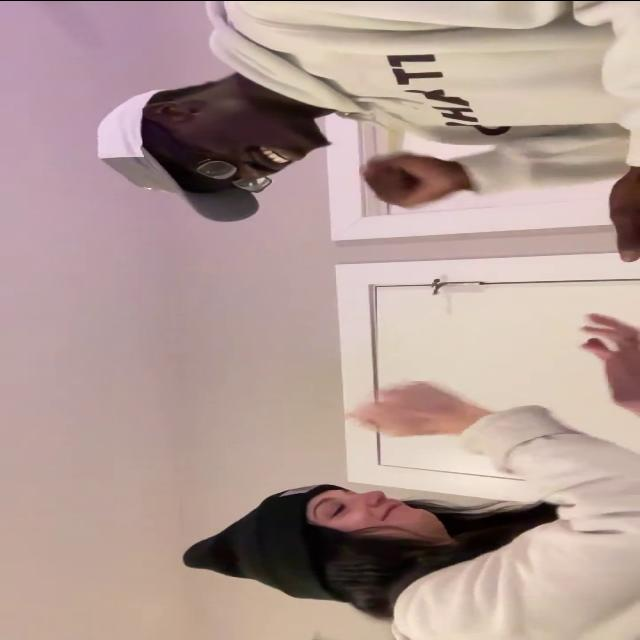Rock: (349, 380, 472, 436), (358, 151, 458, 207)
